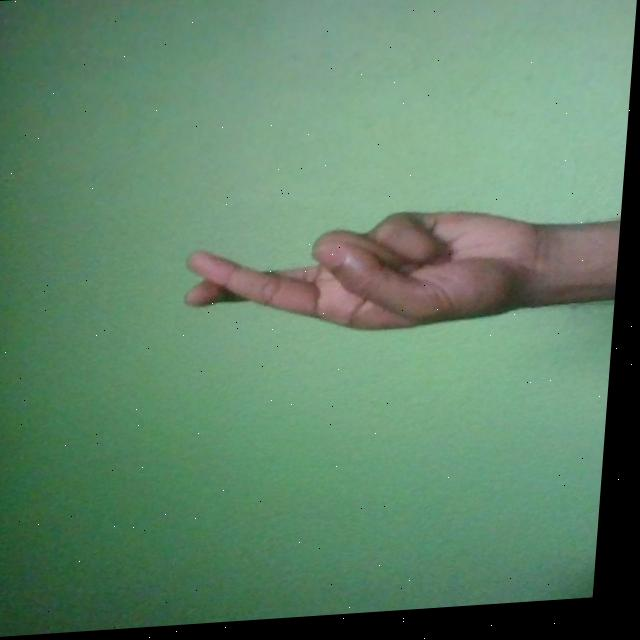Good Luck: (184, 210, 565, 347)
